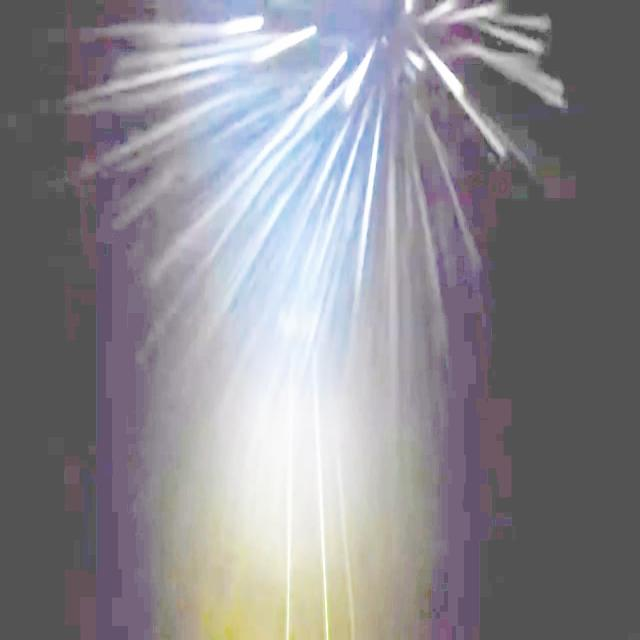wires: (312, 356, 330, 639), (337, 440, 355, 639), (285, 372, 294, 639)
